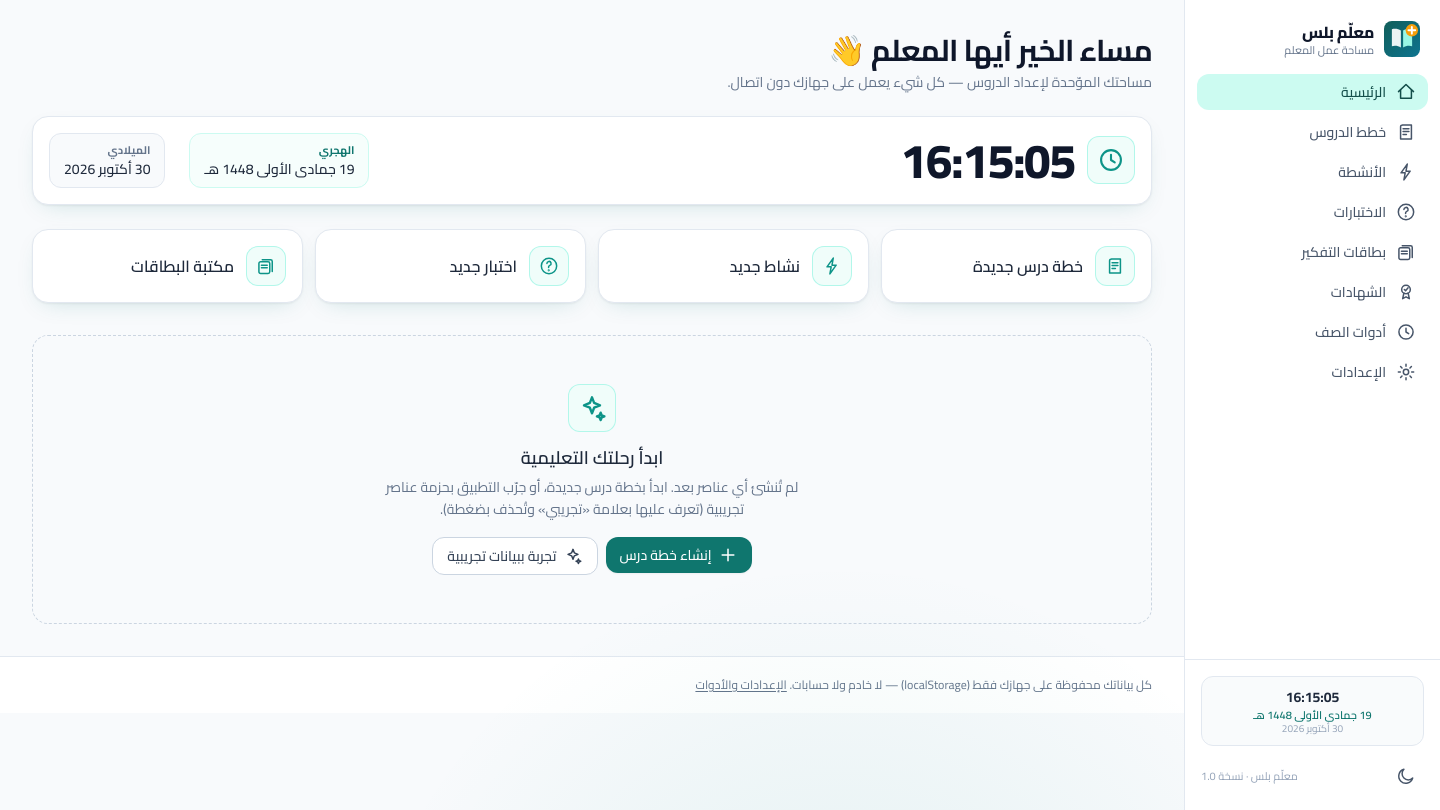
Test: قائمة الشهادات › شهادة محفوظة تظهر باسم الطالب وشارة نوعها
The image size is (1440, 810).
What coordinates should you click on to do the following:
click the link "الشهادات"
I would click on:
 (1373, 292)
Its box is x1=1331 y1=279 x2=1416 y2=305.
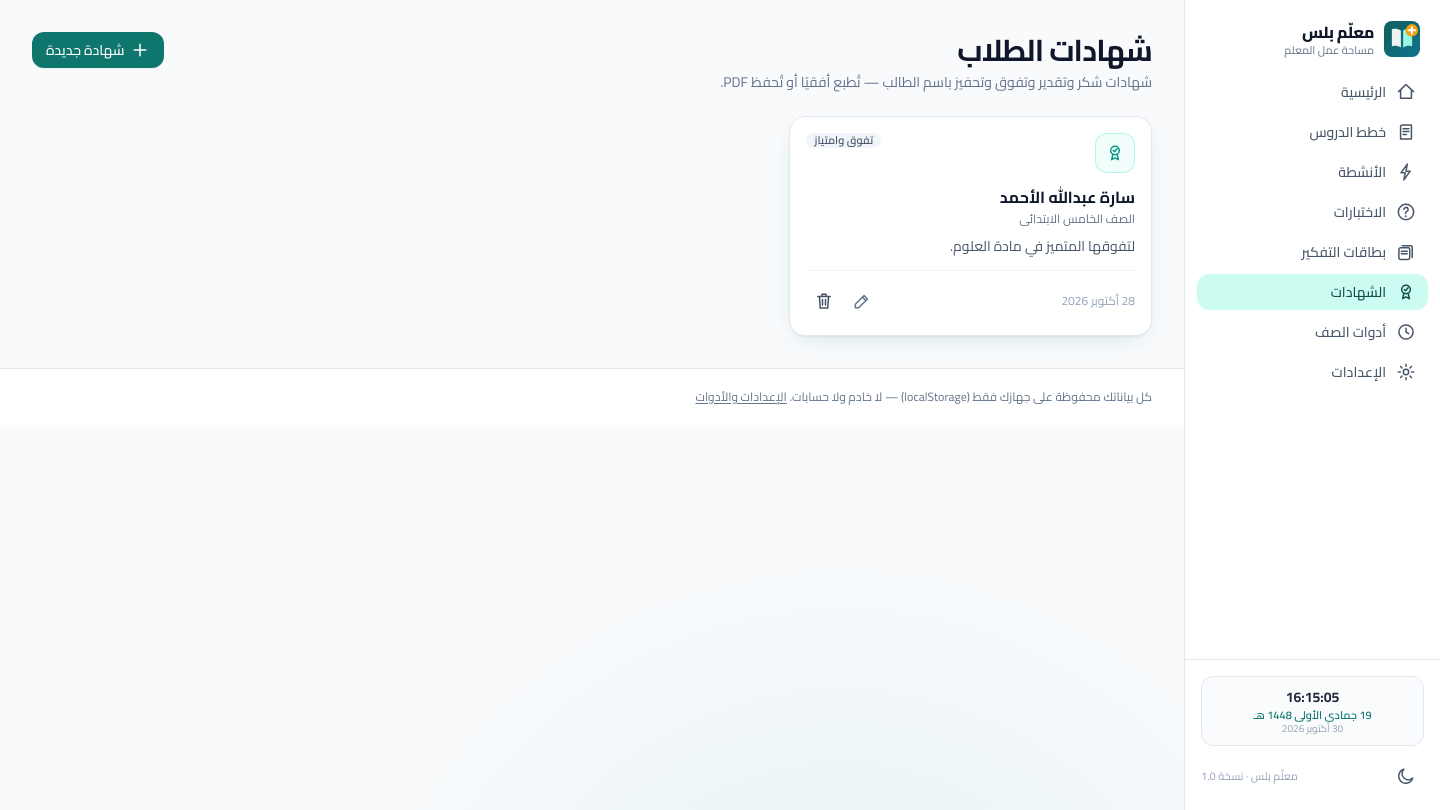
Now the heading "سارة عبدالله الأحمد" is shown, box x1=1000 y1=182 x2=1135 y2=212
Now the text "تفوق وامتياز" is shown, box x1=806 y1=133 x2=881 y2=148
Now the text "لتفوقها المتميز في مادة العلوم." is shown, box x1=950 y1=233 x2=1135 y2=259
